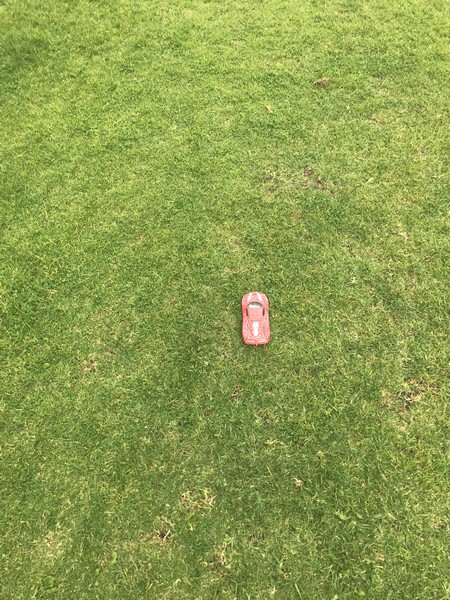RC: (239, 289, 272, 348)
